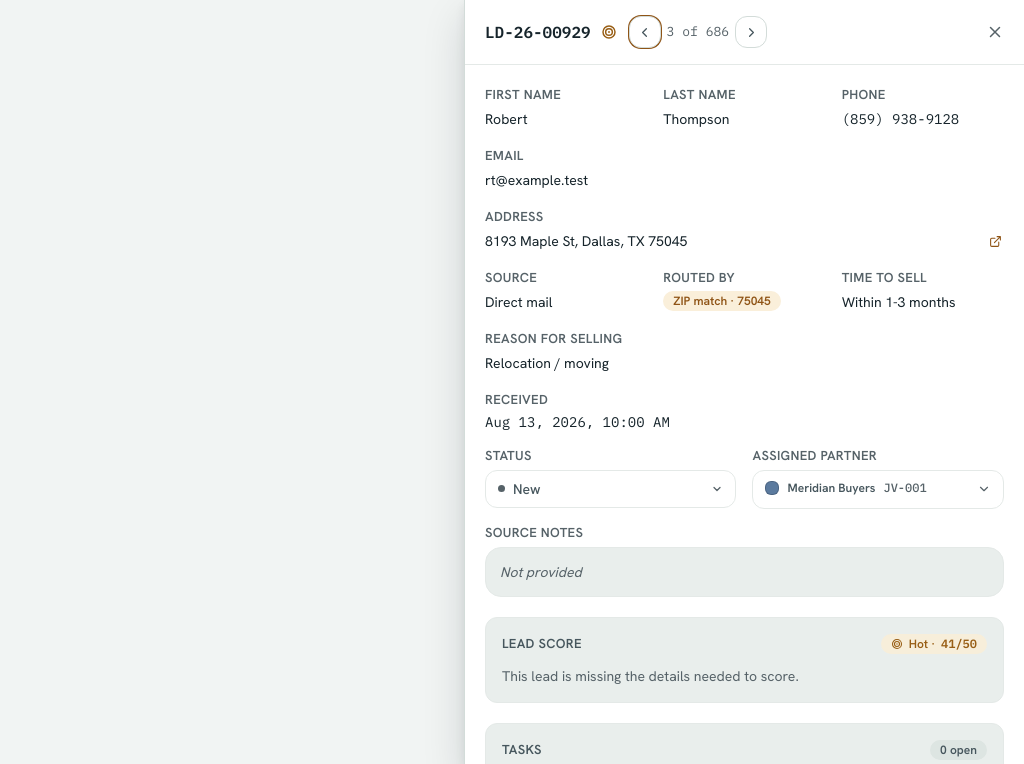
Scenario: N5E-06: the address is one line that opens into four columns › N5E-06: clicking the line expands the structured editor with Street already open
Click the button with aria-label "Address:" at coordinates (586, 241), box [485,229,958,254]
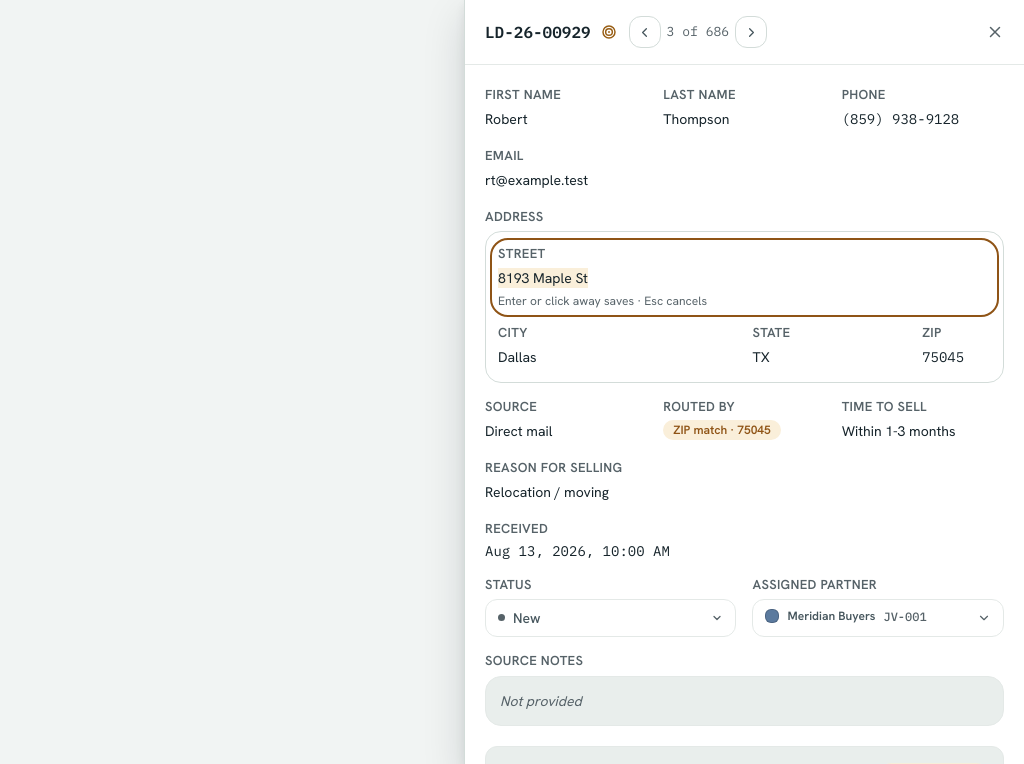
Expected: the button with aria-label "City:" is shown, [498,345,716,370]
Result: the field named "Street" holds "8193 Maple St" at [498,268,991,288]
